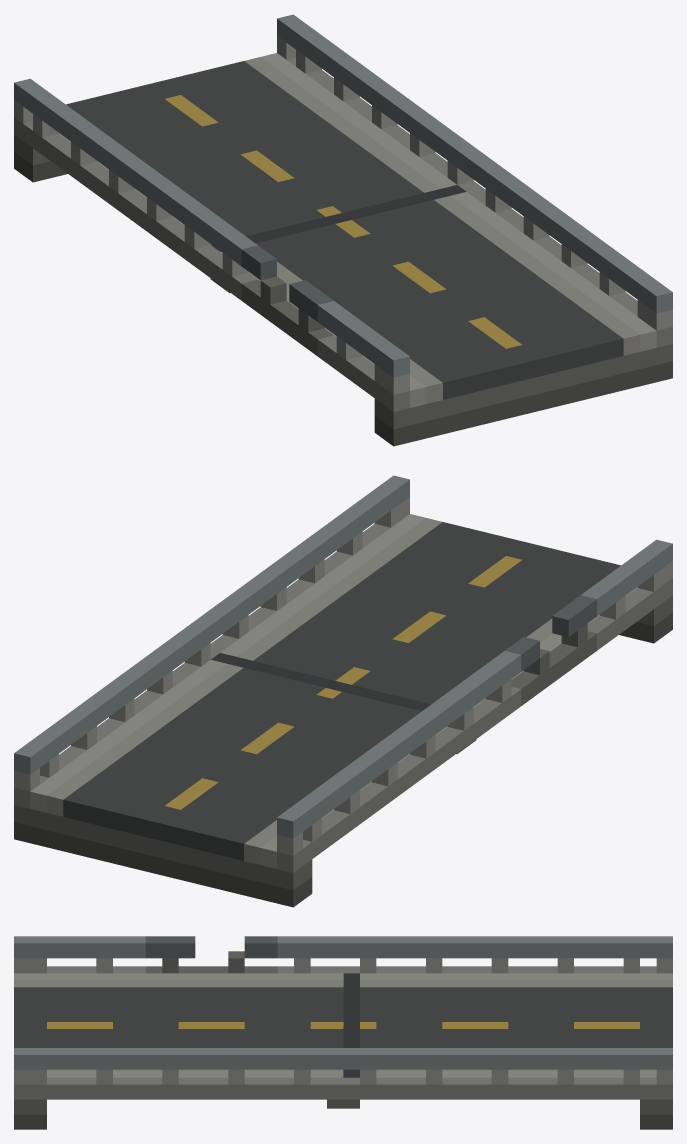
File: Claude_bridge.glb
The picture shows the model from 3 angles, top to bottom: view 1: azimuth 30°, elevation 25°; view 2: azimuth 150°, elevation 25°; view 3: azimuth 270°, elevation 25°; orthographic projection. The views are drawn at different scales.
Parts seen in each view (by area): view 1: Claude_bridge; view 2: Claude_bridge; view 3: Claude_bridge.
Boxes of the visible parts, x1,y1,x2,y2 form: Claude_bridge: (14,14,672,446); Claude_bridge: (14,475,672,907); Claude_bridge: (14,936,672,1129).
Bounding box in the file's own units: 8.5 × 2.5 × 20.
